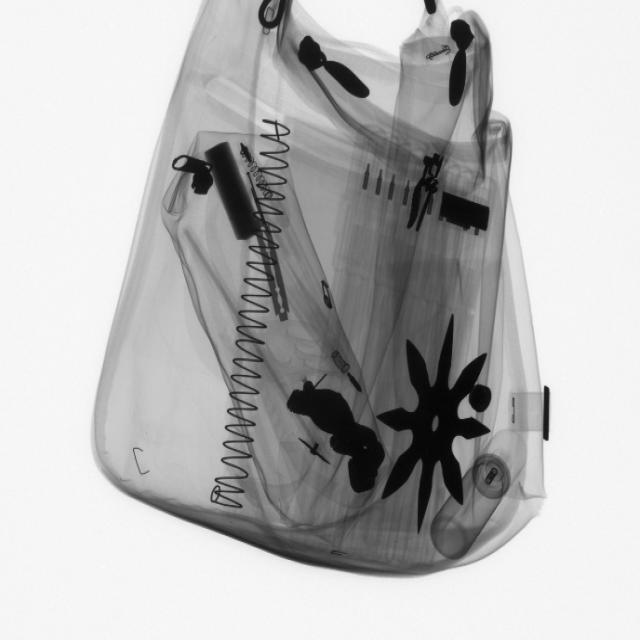BLADE: (257, 222, 294, 331)
SHURIKEN: (380, 313, 495, 532)
